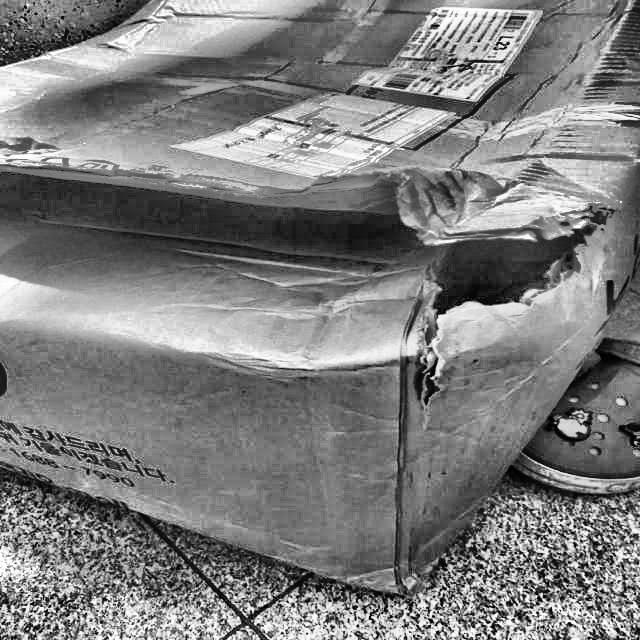box: (0, 0, 640, 598)
hole: (409, 196, 607, 340)
